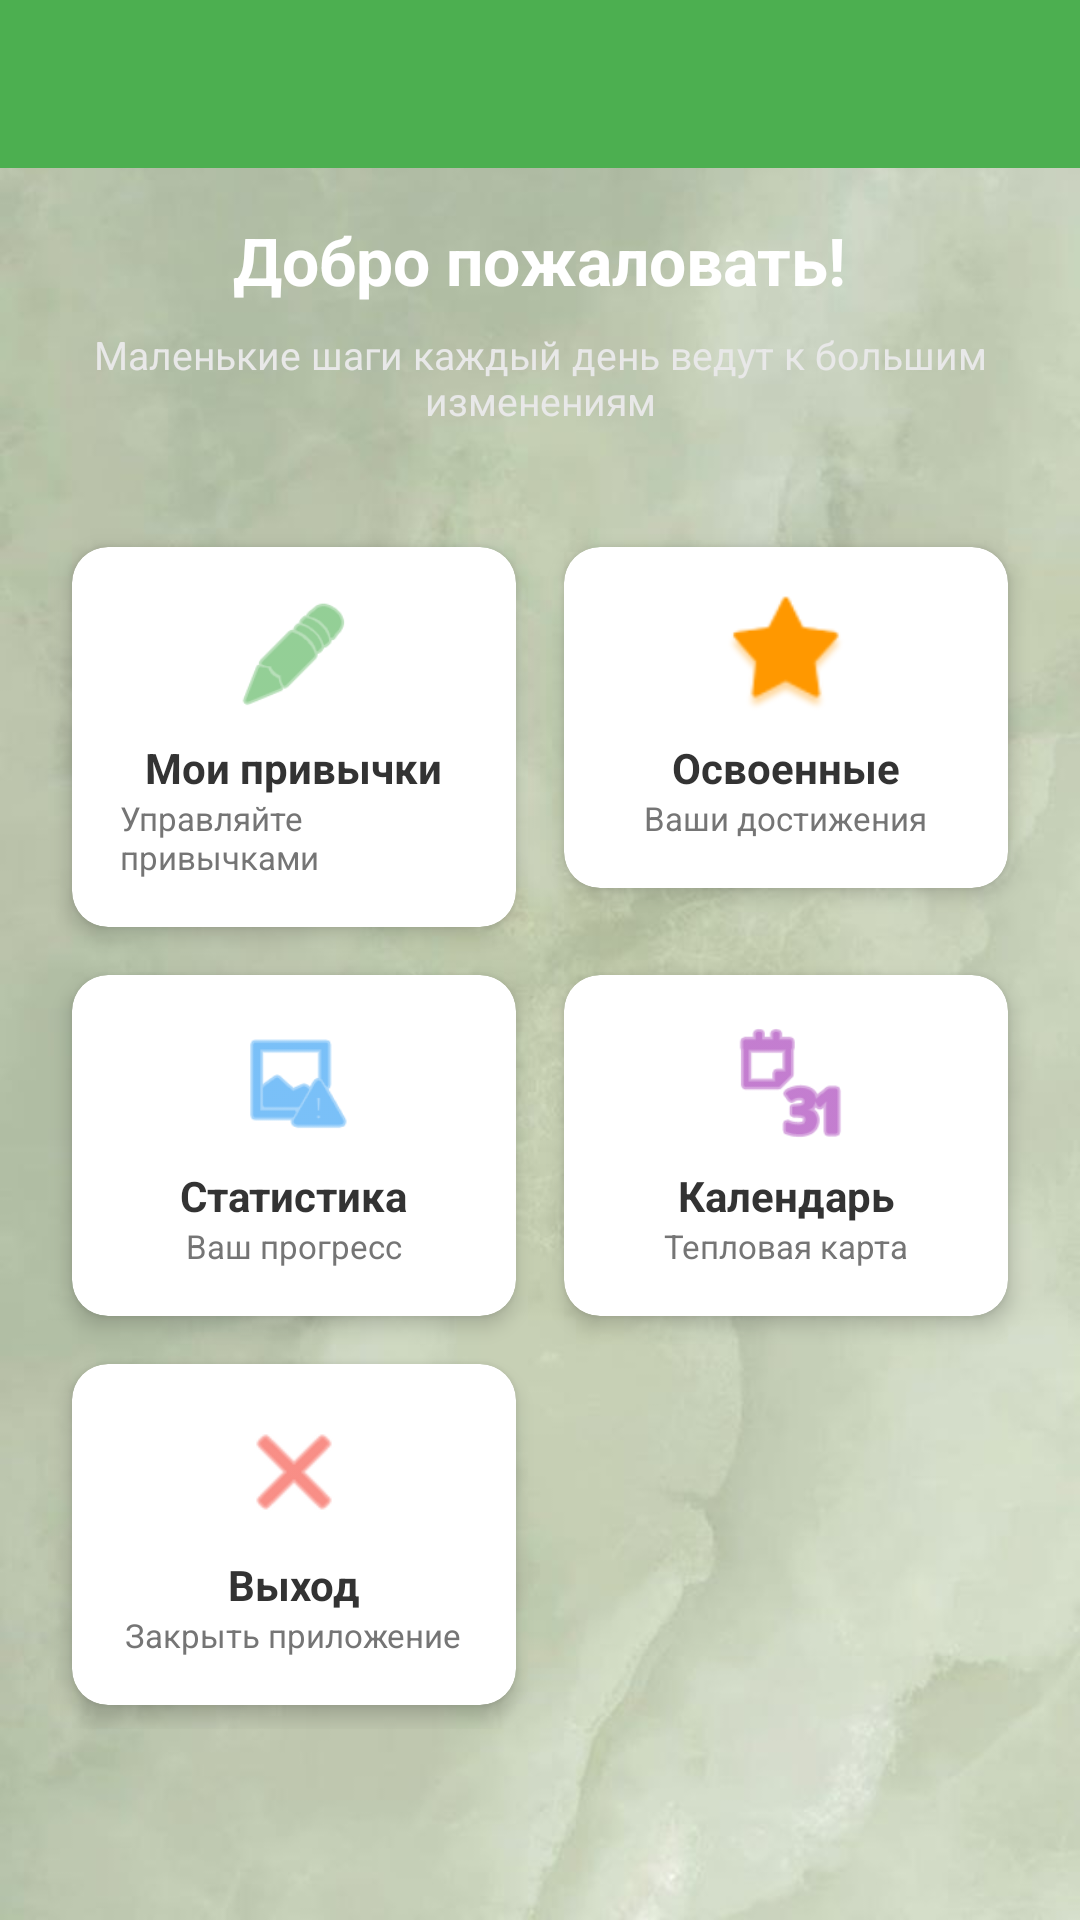

Named icons in this screenshot (1080 × 1920) and their bounding boxes, box(x1, y1, x2, y2):
close clear cancel: box(256, 1434, 331, 1510)
edit: box(243, 604, 344, 705)
month: box(740, 1029, 841, 1137)
report: box(250, 1039, 347, 1128)
star on: box(733, 596, 839, 705)
